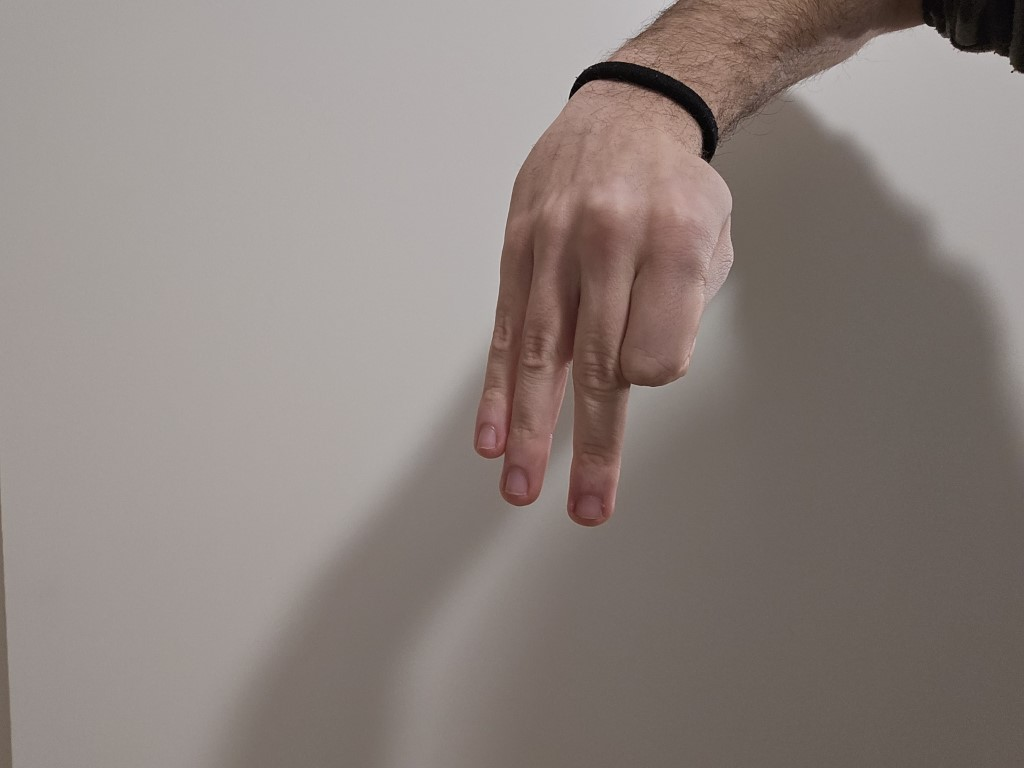m: (457, 87, 747, 547)
